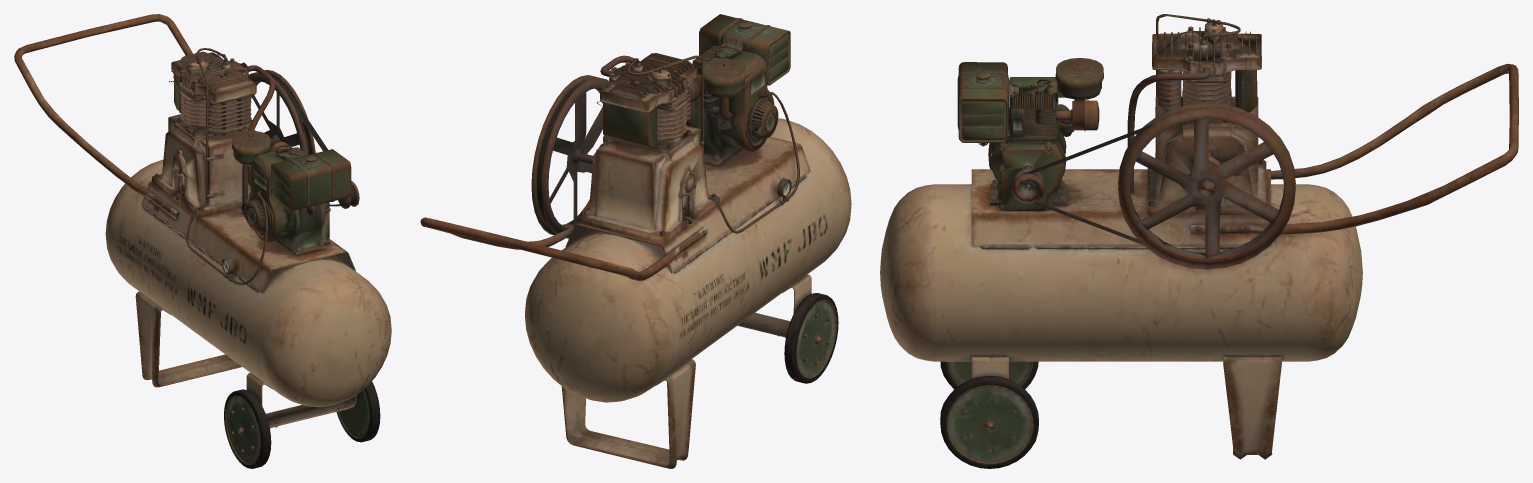
The model's file is PH-old_military_compressor.glb.
3 views of the same model, side by side, from view 1: azimuth 30°, elevation 25°; view 2: azimuth 150°, elevation 25°; view 3: azimuth 270°, elevation 25° (orthographic). The views are drawn at different scales.
Parts seen in each view (by area): view 1: old_military_compressor; view 2: old_military_compressor; view 3: old_military_compressor.
Part boxes in pixels (x1=…): old_military_compressor: x1=14, y1=14, x2=391, y2=468; old_military_compressor: x1=420, y1=14, x2=851, y2=468; old_military_compressor: x1=880, y1=14, x2=1518, y2=468.
Bounding box in the file's own units: 0.5983 × 1.18 × 1.68.
Materials: 2 (2 with a texture image).
